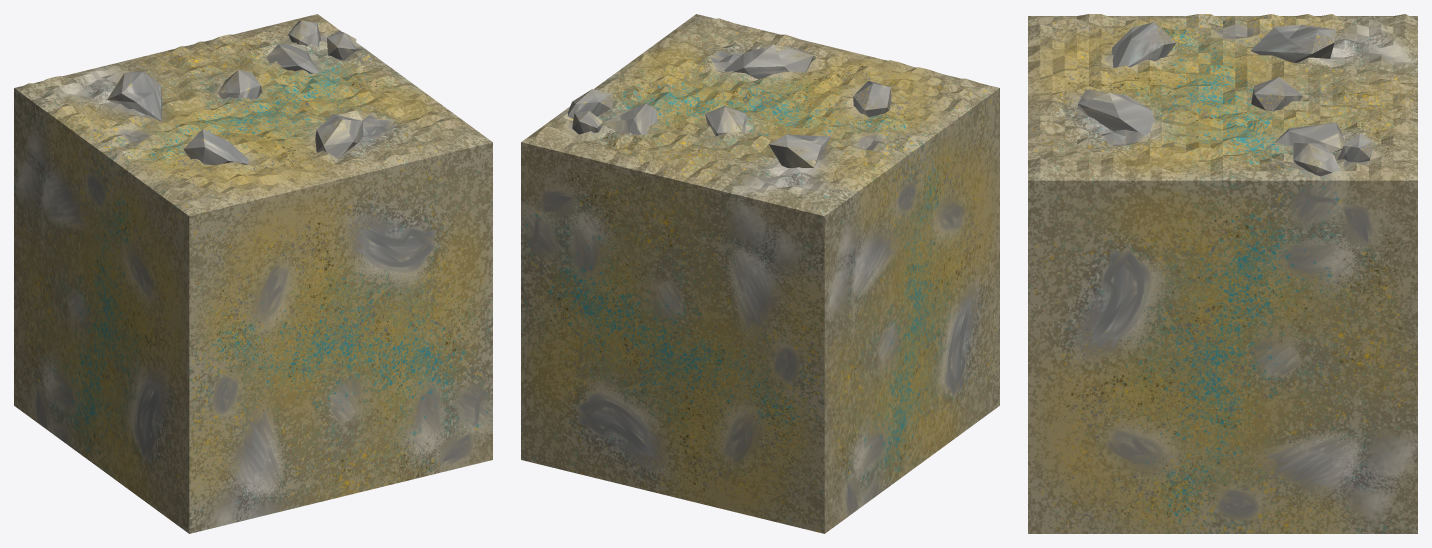
Rendered from TileRekaposusena.fbx.
The picture shows the model from 3 angles, left to right: view 1: azimuth 30°, elevation 25°; view 2: azimuth 150°, elevation 25°; view 3: azimuth 270°, elevation 25°; orthographic projection. The views are drawn at different scales.
Visible parts, largest first — view 1: Icosphere; view 2: Icosphere; view 3: Icosphere.
Boxes of the visible parts, bbox=[...] form: Icosphere: bbox=[14, 14, 492, 533]; Icosphere: bbox=[521, 14, 999, 533]; Icosphere: bbox=[1028, 14, 1417, 533].
Bounding box in the file's own units: 200 × 218 × 200.
